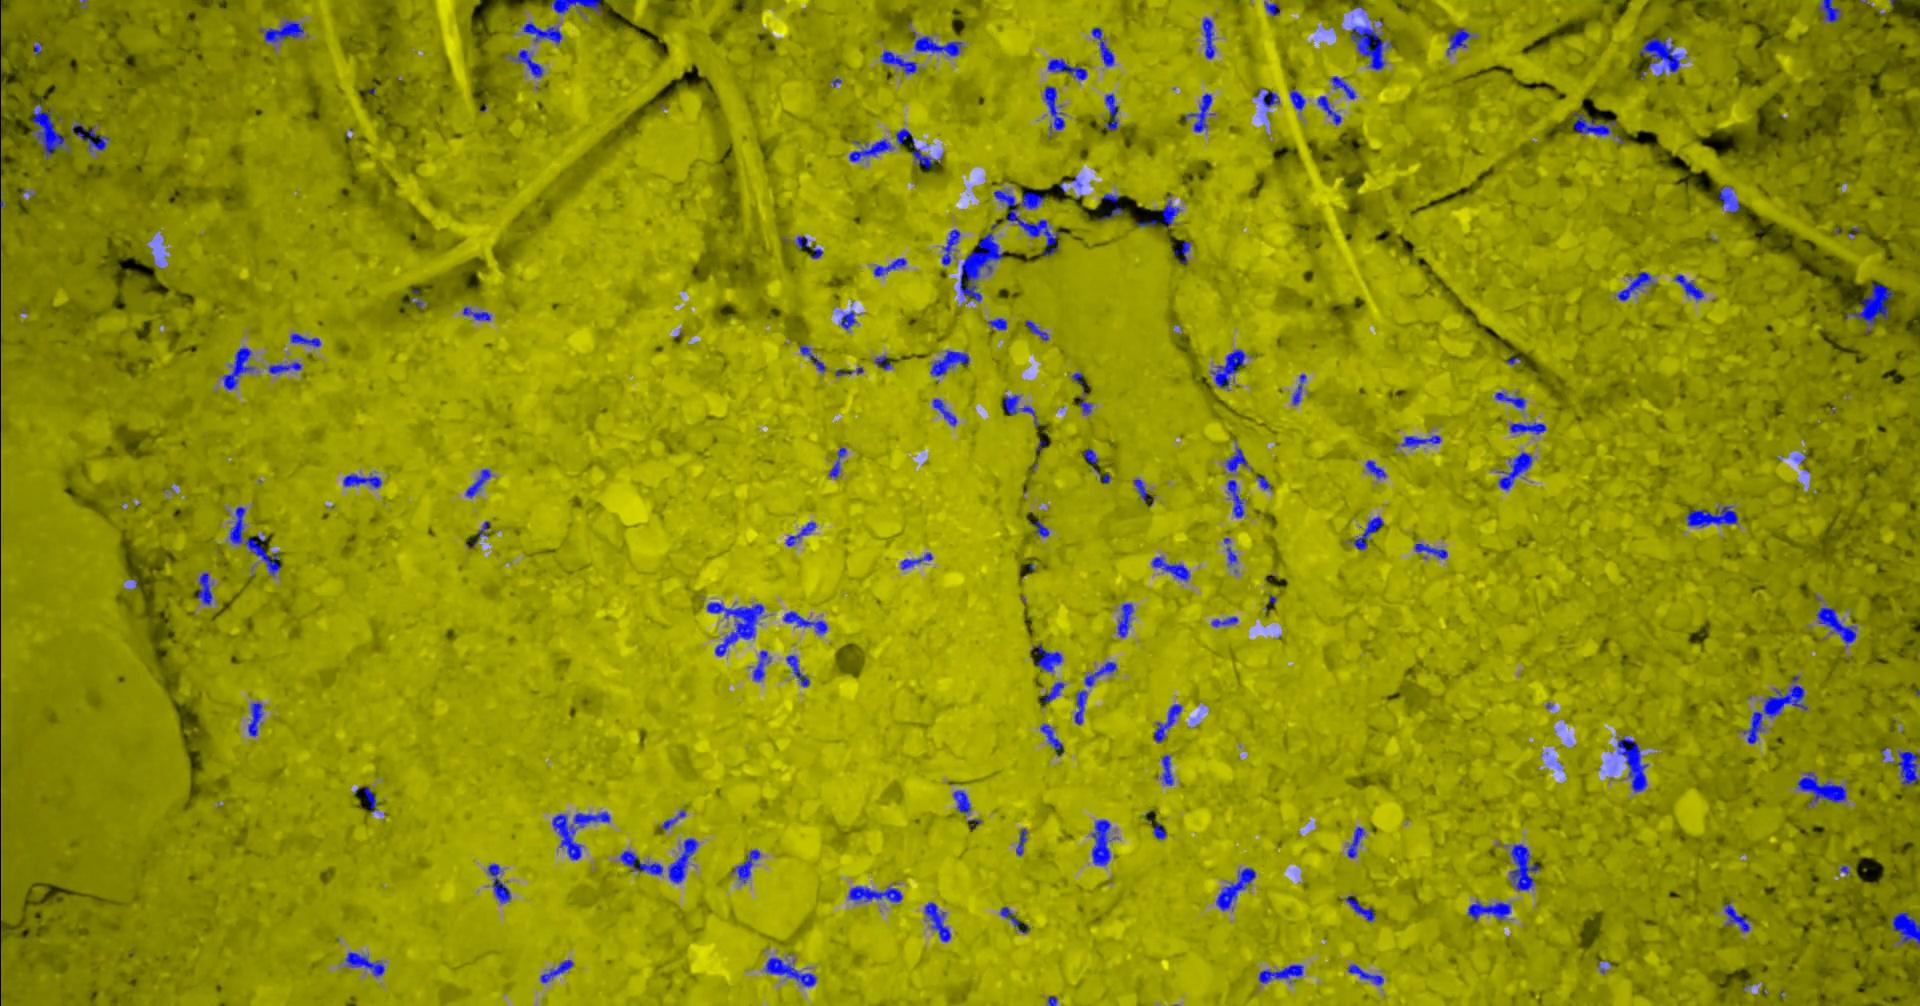ant: (1743, 674, 1807, 743), (229, 506, 279, 574), (706, 602, 763, 655), (551, 810, 610, 860), (30, 104, 69, 159), (1845, 281, 1892, 324), (1350, 25, 1392, 69), (1617, 737, 1647, 791), (1215, 868, 1255, 909), (1815, 607, 1855, 645), (764, 956, 817, 986), (1796, 771, 1845, 801), (1638, 37, 1680, 72), (1509, 843, 1539, 890), (222, 345, 254, 389), (1496, 451, 1531, 489), (1210, 349, 1244, 387), (668, 838, 697, 883), (1002, 394, 1039, 427), (1183, 93, 1214, 131), (1043, 85, 1064, 137), (1685, 506, 1737, 527), (1617, 271, 1655, 300), (1153, 702, 1181, 742), (1571, 111, 1615, 135), (71, 123, 109, 151), (618, 850, 662, 874), (1891, 911, 1919, 948), (782, 610, 827, 633), (1352, 516, 1383, 549), (930, 351, 969, 376), (924, 902, 950, 941), (508, 50, 543, 77), (260, 19, 303, 42), (848, 138, 891, 161), (914, 36, 963, 56), (731, 848, 759, 882), (1150, 556, 1189, 580), (345, 951, 383, 976), (488, 862, 510, 902), (1030, 643, 1062, 671), (523, 22, 561, 44), (1091, 819, 1110, 865), (1091, 27, 1112, 66), (1258, 964, 1303, 983), (1895, 749, 1919, 784), (1467, 901, 1510, 920), (1722, 902, 1750, 931), (999, 906, 1029, 934), (880, 50, 916, 72), (848, 887, 902, 902), (1084, 661, 1116, 686), (1048, 58, 1087, 79), (1039, 723, 1063, 756), (1345, 895, 1375, 921), (540, 959, 573, 982), (799, 344, 825, 372), (465, 467, 490, 497), (1672, 274, 1703, 298), (785, 521, 815, 545), (785, 655, 809, 686), (1347, 964, 1383, 984), (1317, 95, 1341, 124), (549, 0, 602, 13), (1227, 479, 1244, 517), (1446, 27, 1470, 55), (932, 398, 956, 426), (941, 229, 959, 265), (910, 145, 938, 168), (872, 257, 905, 276), (1100, 193, 1123, 220), (1161, 194, 1178, 227), (1330, 75, 1355, 98), (1224, 446, 1247, 471), (1133, 478, 1153, 506), (1396, 434, 1440, 447), (1346, 826, 1364, 857), (1817, 0, 1841, 23), (342, 473, 381, 486), (196, 572, 212, 605), (1718, 185, 1738, 212), (828, 447, 846, 478), (752, 650, 770, 681), (1201, 17, 1214, 58), (900, 553, 932, 569), (660, 808, 684, 829), (1103, 93, 1117, 130), (1415, 542, 1448, 558), (1117, 603, 1133, 636), (1255, 86, 1279, 107), (1023, 320, 1048, 340), (1509, 422, 1545, 434), (1043, 681, 1064, 702), (1495, 392, 1525, 408), (248, 702, 262, 735), (1074, 688, 1087, 724), (1291, 373, 1305, 404), (268, 361, 301, 373), (1070, 372, 1090, 394), (462, 306, 490, 320), (290, 333, 320, 345), (1365, 459, 1385, 478), (1161, 754, 1173, 785), (952, 790, 970, 812), (1173, 240, 1190, 263), (1223, 537, 1237, 564), (1289, 89, 1305, 111), (363, 786, 376, 810), (1015, 828, 1026, 855), (841, 310, 856, 329), (985, 318, 1006, 330), (1211, 616, 1237, 626), (874, 354, 890, 370), (1082, 447, 1097, 464), (1032, 520, 1048, 536), (1152, 822, 1166, 840), (1263, 0, 1279, 15), (895, 128, 910, 144), (836, 367, 863, 375), (1256, 475, 1271, 489), (477, 521, 489, 537), (1078, 400, 1091, 414), (795, 235, 808, 248)
